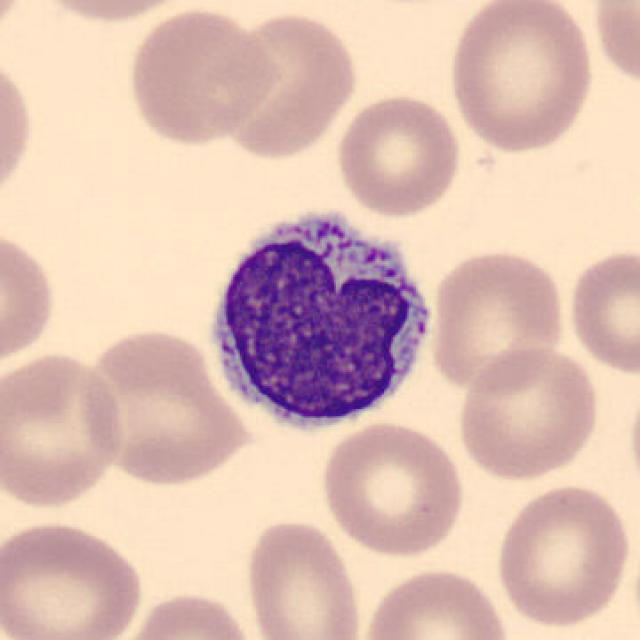Lymphocyte: (195, 198, 441, 442)
RBC: (75, 324, 254, 488), (444, 0, 598, 157), (121, 3, 279, 150), (213, 7, 361, 162), (316, 418, 469, 559), (0, 347, 128, 513), (453, 342, 603, 483), (492, 480, 633, 630), (425, 245, 567, 393), (0, 516, 147, 640), (332, 90, 464, 219), (240, 515, 366, 640), (357, 564, 514, 640), (564, 245, 638, 377), (0, 220, 60, 375), (110, 587, 260, 640), (0, 48, 36, 210), (588, 0, 638, 95), (23, 0, 201, 26), (0, 0, 28, 47)
